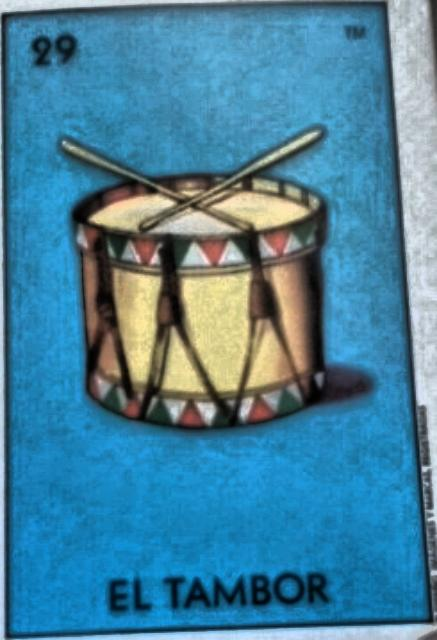El Tambor: (3, 9, 434, 634)
